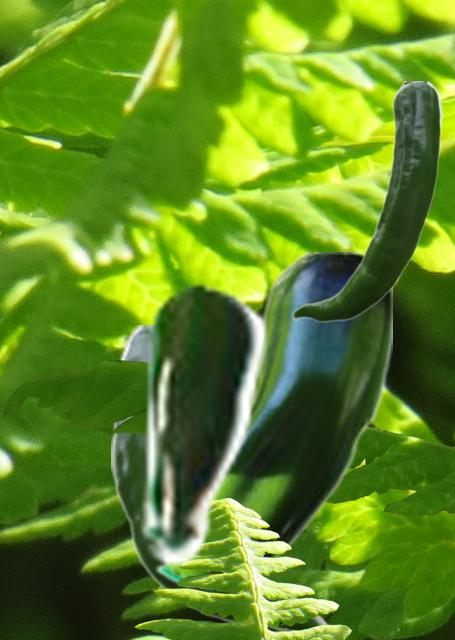green_chili: (154, 252, 391, 587), (111, 325, 331, 630), (133, 281, 269, 567), (291, 81, 442, 322)
